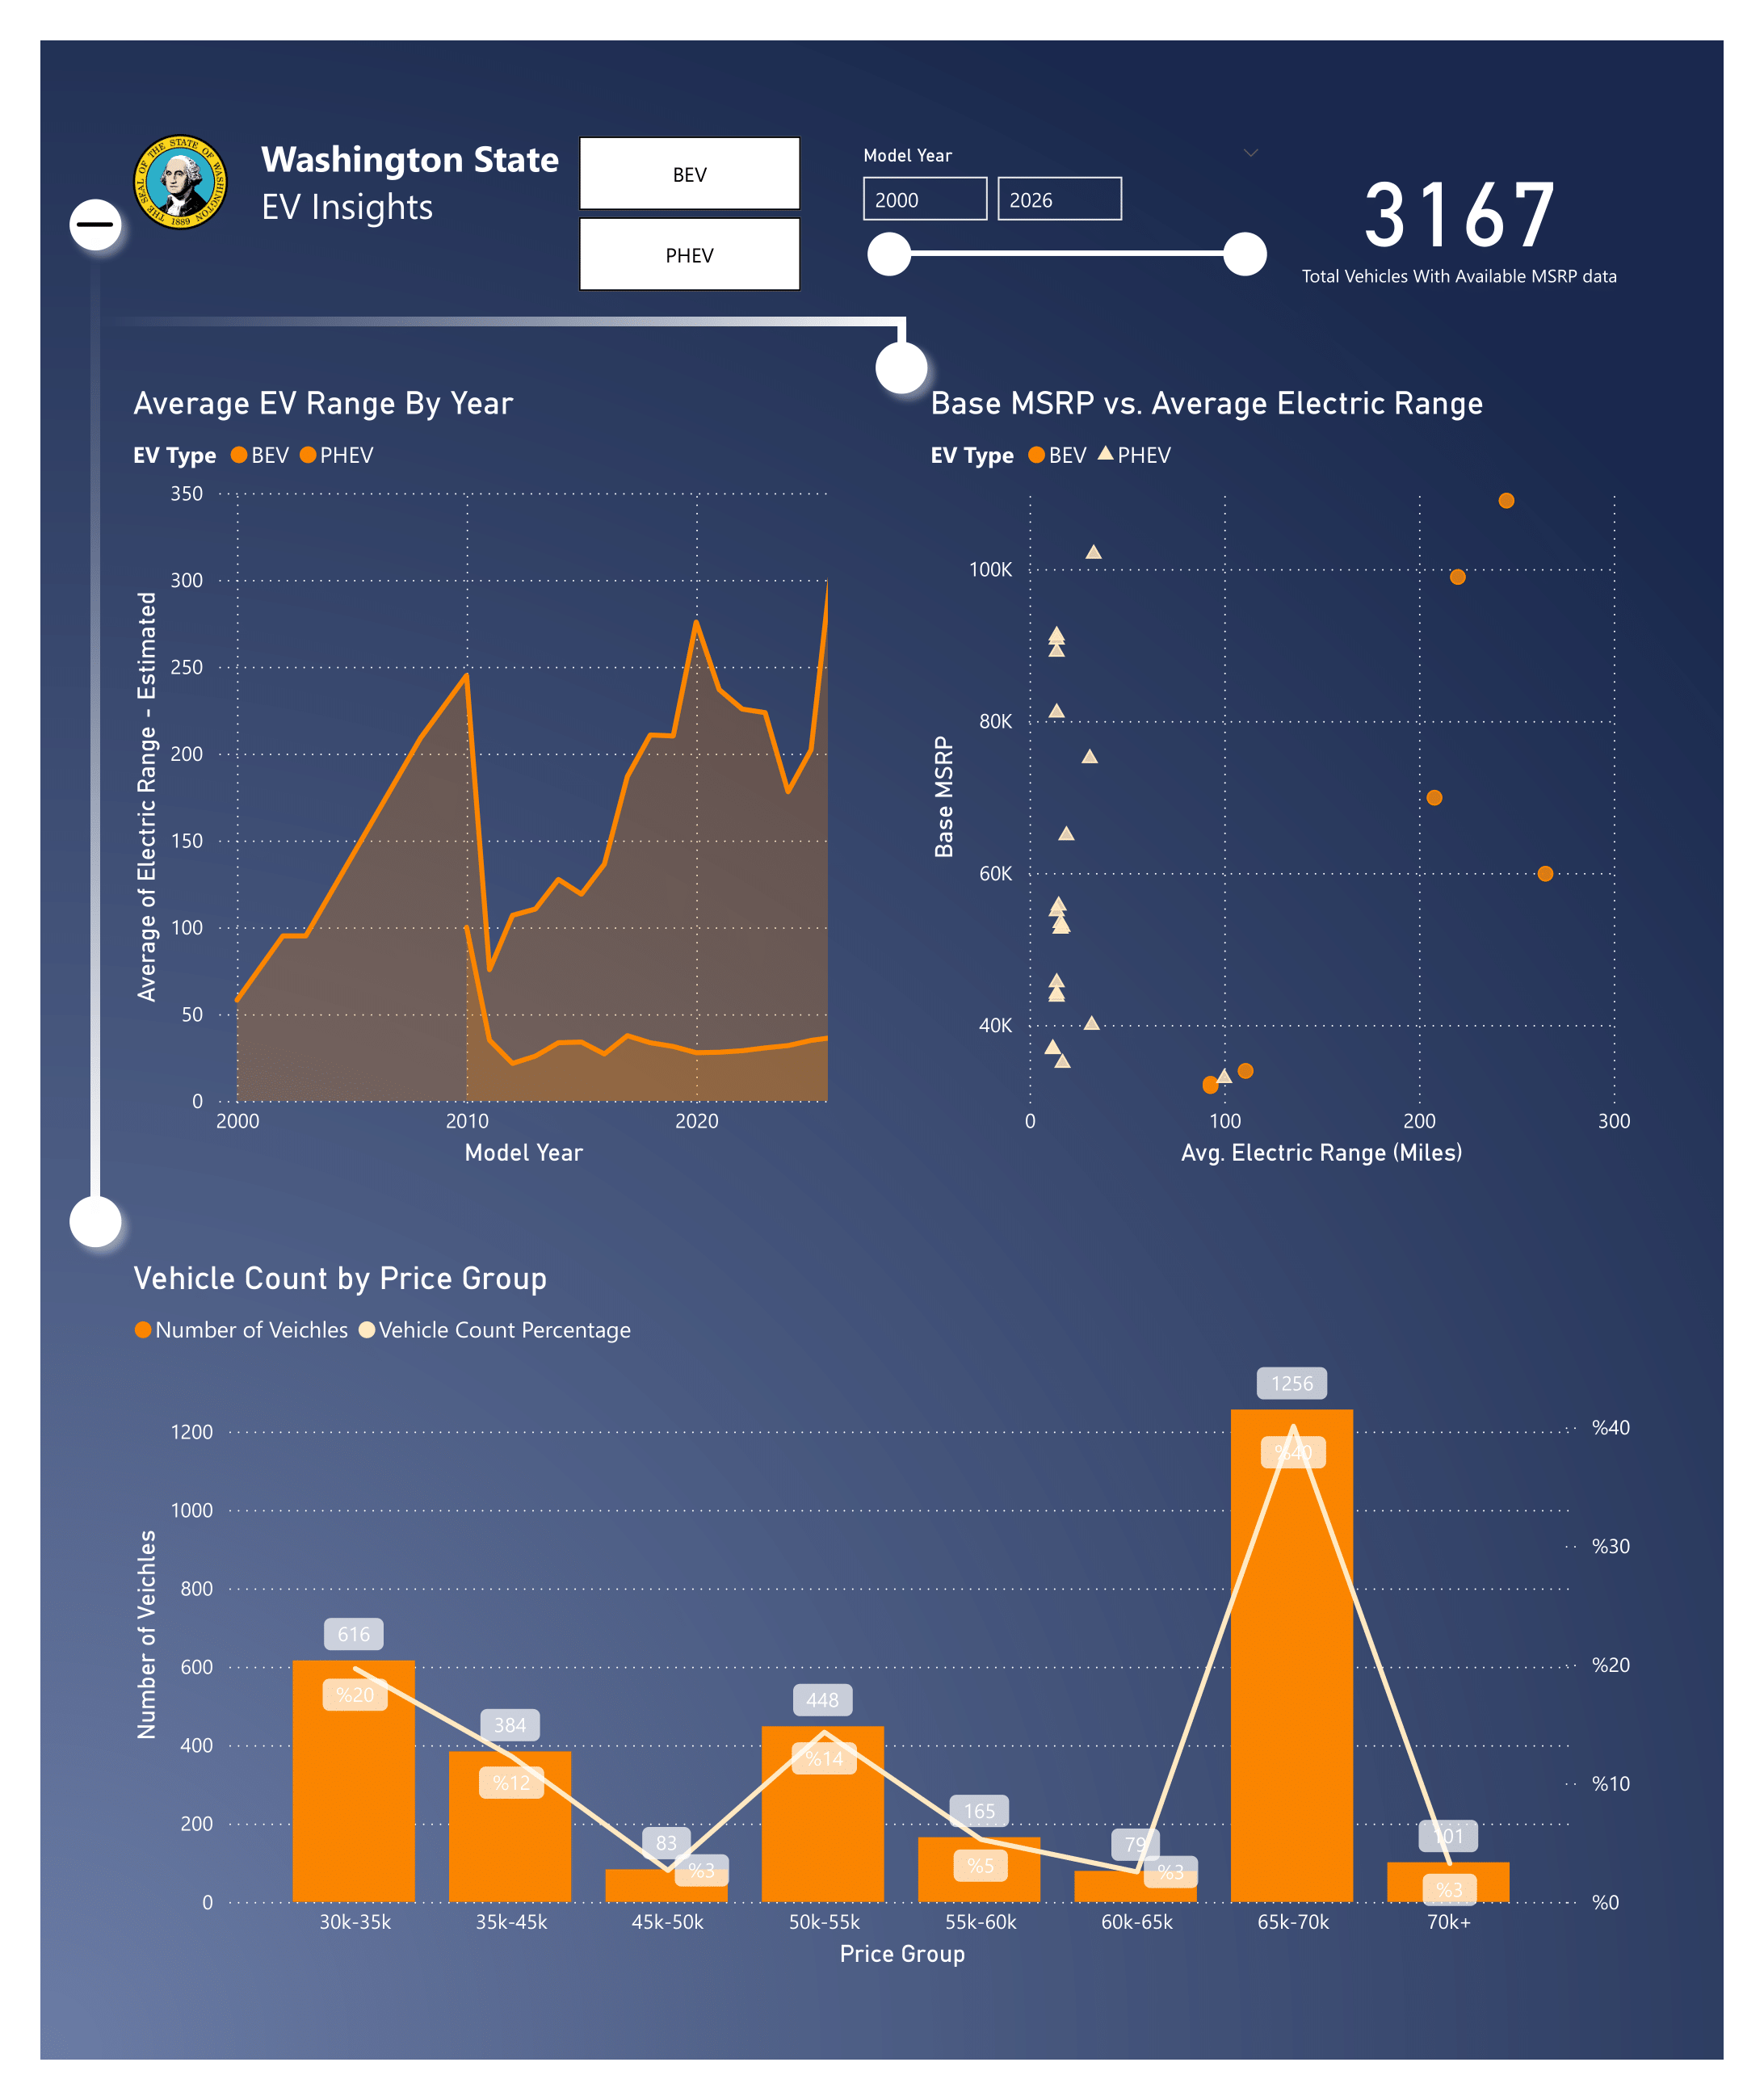

The page's visual inventory and layout, read from the dashboard file:
{"tool":"powerbi","page":{"name":"Trends","canvas":[1000,1200],"ordinal":2},"visuals":[{"type":"actionButton","title":"tree","box":[14,0,524,818],"z":0},{"type":"areaChart","title":"Average EV Range By Year","fields":{"Category":["Electric_Vehicle_Population_Data.Model Year"],"Series":["Electric_Vehicle_Population_Data.Electric Vehicle Type"],"Y":["Avg(Electric_Vehicle_Population_Data.Electric Range - Estimated)"]},"box":[50,204,426,470],"z":1000},{"type":"lineClusteredColumnComboChart","title":"Vehicle Count by Price Group","fields":{"Category":["Electric_Vehicle_Population_Data.Price Group"],"Y2":["Electric_Vehicle_Population_Data.Vehicle Count Percentage"],"Y":["Electric_Vehicle_Population_Data.Total Vehicles"]},"box":[50,724,900,425.7],"z":2000},{"type":"card","title":"Veichle count","fields":{"Values":["Electric_Vehicle_Population_Data.Total Vehicles"]},"box":[737.1,50,212.9,105.7],"z":3000},{"type":"scatterChart","title":"Base MSRP vs. Average Electric Range","fields":{"Y":["Electric_Vehicle_Population_Data.Base MSRP"],"X":["Avg(Electric_Vehicle_Population_Data.Electric Range - Estimated)"],"Series":["Electric_Vehicle_Population_Data.Electric Vehicle Type"]},"box":[524.3,204.3,425.7,470],"z":4000},{"type":"slicer","title":"date slicer","fields":{"Values":["Electric_Vehicle_Population_Data.Model Year"]},"box":[475.7,57.1,261.4,98.6],"z":5000},{"type":"slicer","title":"type slicer","fields":{"Values":["Electric_Vehicle_Population_Data.Electric Vehicle Type"]},"box":[294.3,50,181.4,105.7],"z":6000},{"type":"textbox","title":"Title","box":[125.7,50,191.4,81.4],"z":7000},{"type":"image","title":"logo","box":[50,50,67,67.5],"z":8000},{"type":"actionButton","title":"icon minus","box":[22,97.6,21.2,23.2],"z":10000}]}

Visuals, with their boxes in screenshot pixels (x1, y1, x2, y2):
"tree" actionButton: (x1=64, y1=40, x2=946, y2=1417)
"Average EV Range By Year" areaChart: (x1=124, y1=384, x2=842, y2=1174)
"Vehicle Count by Price Group" lineClusteredColumnComboChart: (x1=124, y1=1258, x2=1640, y2=1975)
"Veichle count" card: (x1=1281, y1=124, x2=1640, y2=302)
"Base MSRP vs. Average Electric Range" scatterChart: (x1=923, y1=384, x2=1640, y2=1175)
"date slicer" slicer: (x1=841, y1=136, x2=1281, y2=302)
"type slicer" slicer: (x1=535, y1=124, x2=841, y2=302)
"Title" textbox: (x1=252, y1=124, x2=574, y2=262)
"logo" image: (x1=124, y1=124, x2=237, y2=238)
"icon minus" actionButton: (x1=78, y1=204, x2=113, y2=244)
